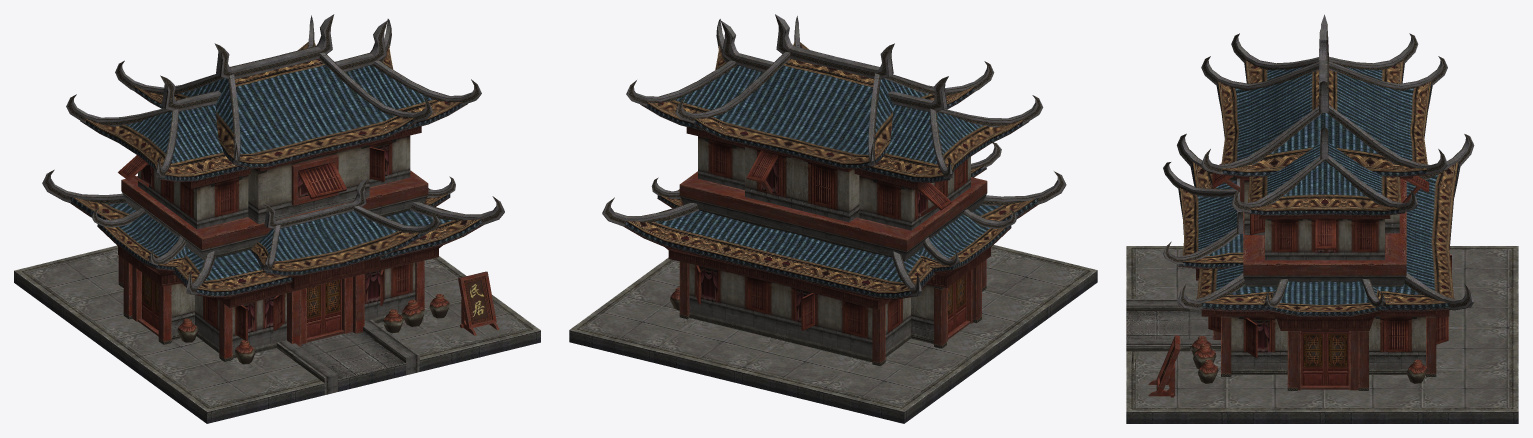
The picture shows the model from 3 angles, left to right: view 1: azimuth 30°, elevation 25°; view 2: azimuth 150°, elevation 25°; view 3: azimuth 270°, elevation 25°; orthographic projection.
Visible parts, largest first — view 1: g_31; view 2: g_31; view 3: g_31.
Boxes of the visible parts, x1=… form: g_31: x1=14, y1=14, x2=540, y2=423; g_31: x1=569, y1=14, x2=1097, y2=423; g_31: x1=1126, y1=14, x2=1518, y2=423.
Size of the model in its own units: 20.01 by 16.26 by 20.01.
3 materials, 3 textured.
